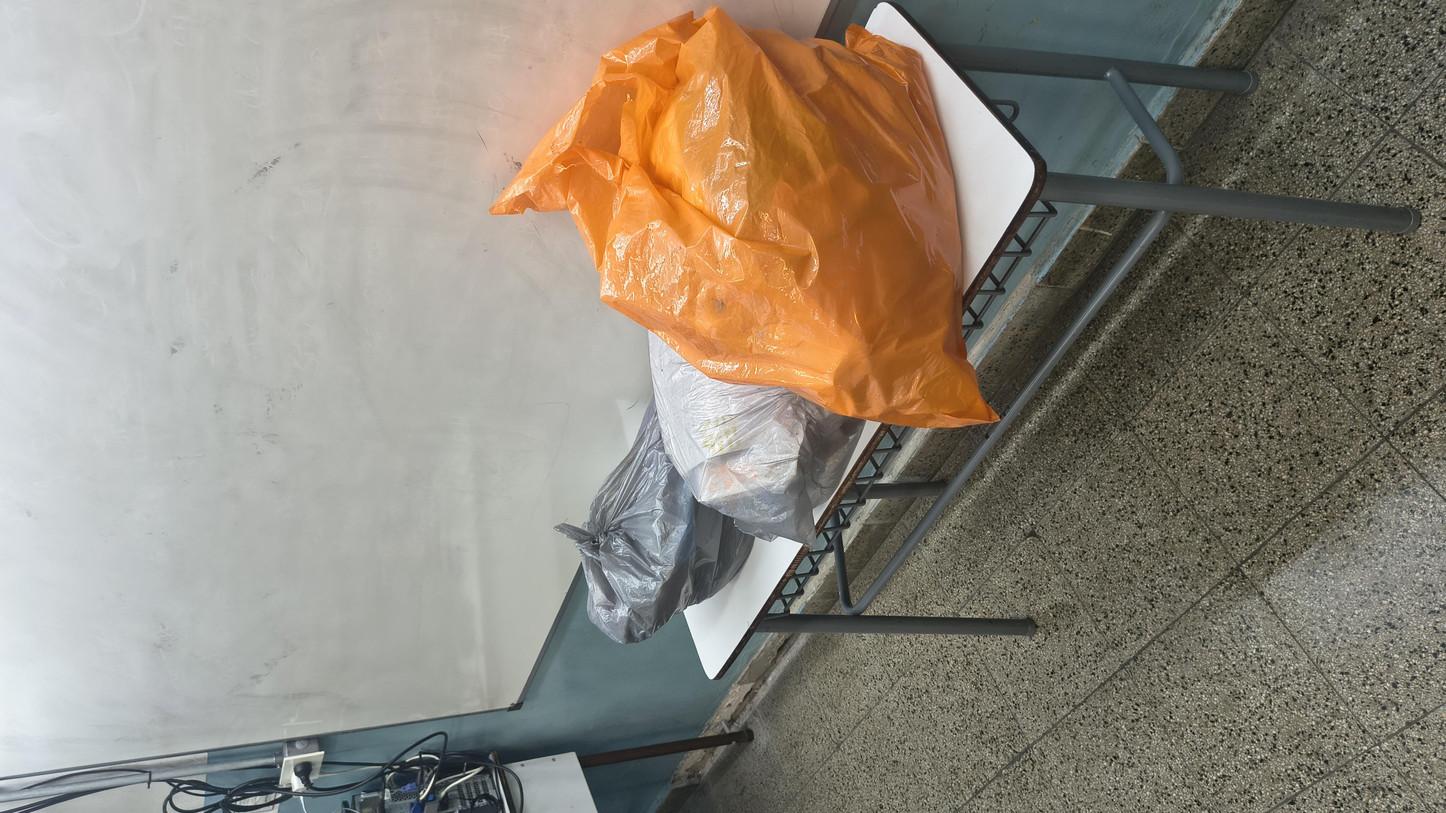Garbage: (665, 270, 1425, 568), (282, 302, 747, 441), (515, 363, 954, 476)
